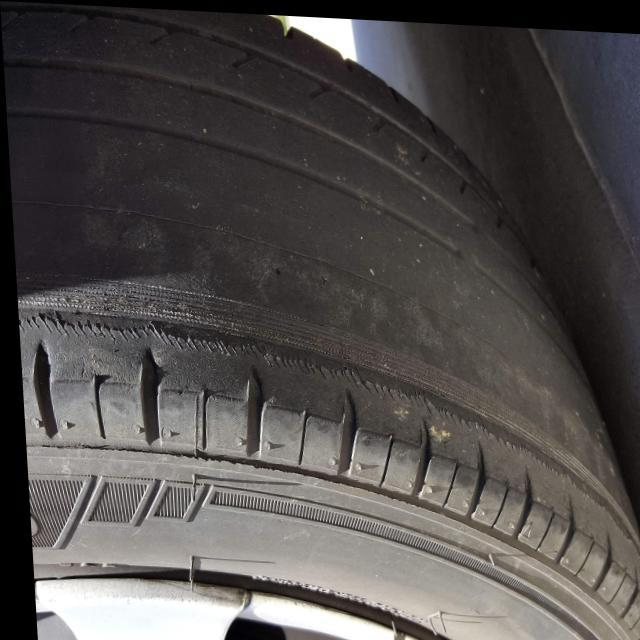Flat spots: (0, 94, 550, 380)
